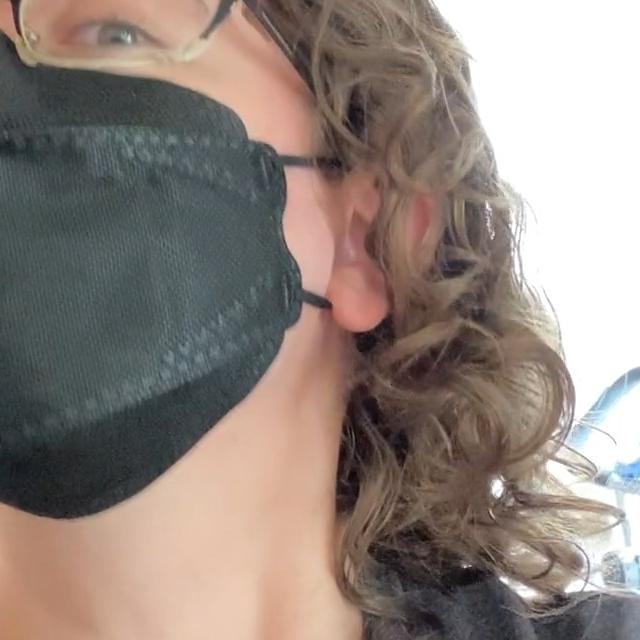Mask: (0, 23, 351, 520)
Person: (0, 0, 640, 640)
